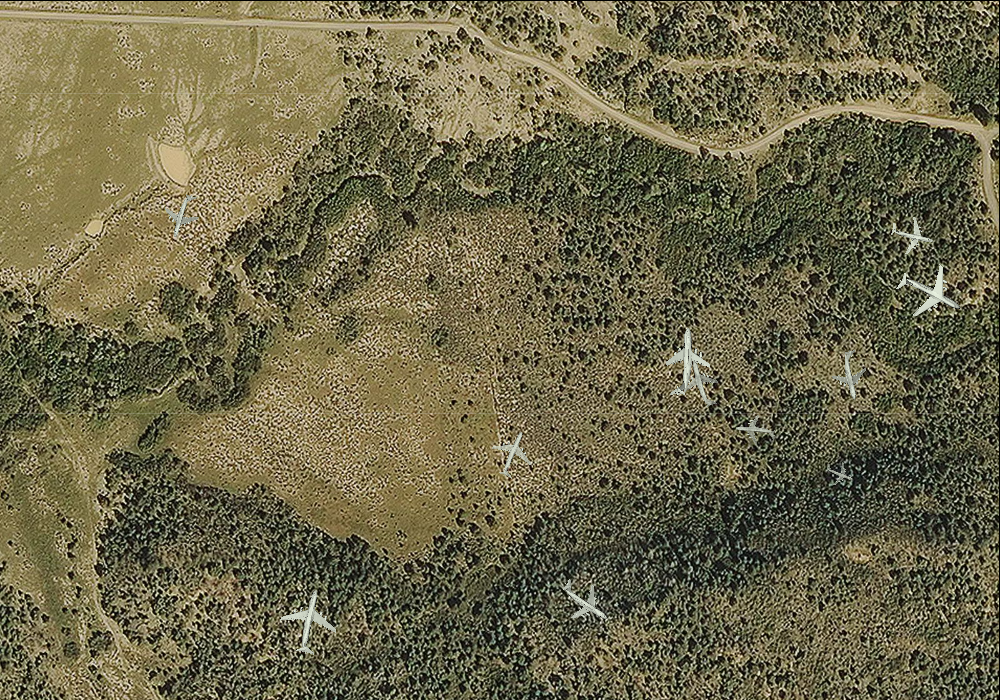plane: (885, 249, 974, 337), (272, 584, 347, 661), (549, 566, 621, 636), (654, 327, 713, 397), (482, 423, 544, 485), (675, 354, 730, 413), (825, 345, 878, 403), (156, 188, 208, 243), (886, 209, 939, 260), (734, 411, 777, 451), (821, 455, 858, 491)
